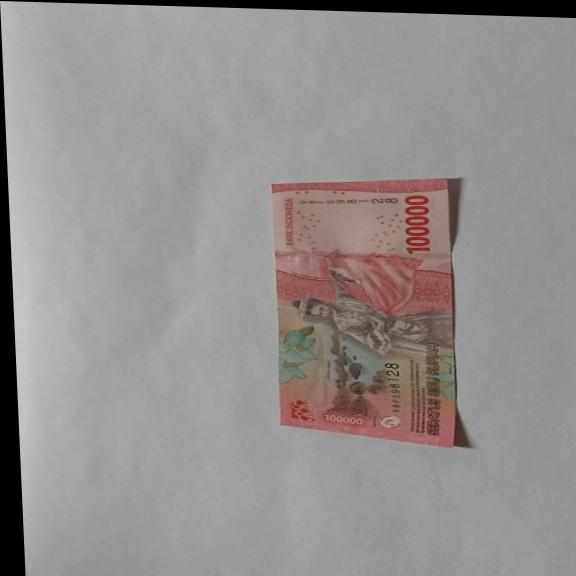Kertas: (266, 171, 470, 448), (400, 193, 434, 254)
